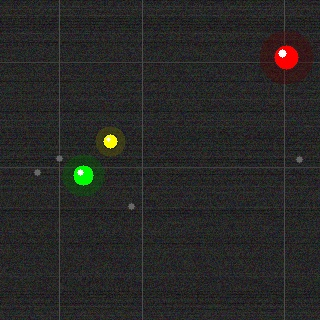green_normal: (71, 163, 95, 187)
red_fault: (272, 43, 300, 71)
yellow_warning: (101, 132, 119, 150)
